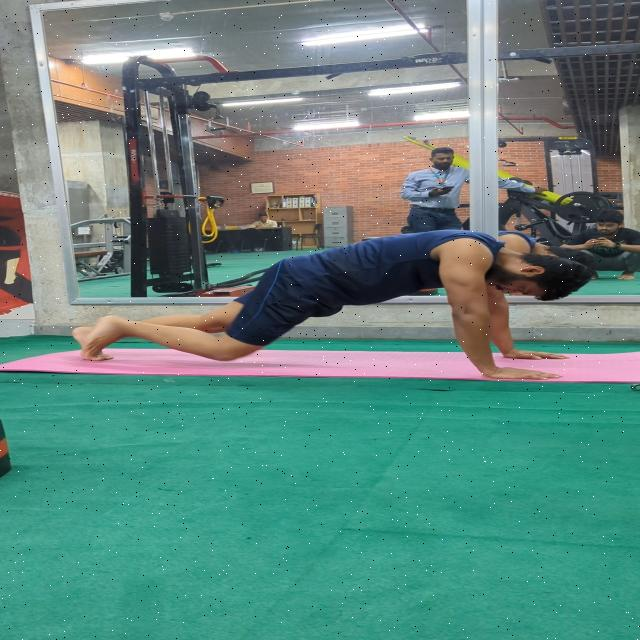Normal_MountainClimbers: (52, 214, 600, 374)
